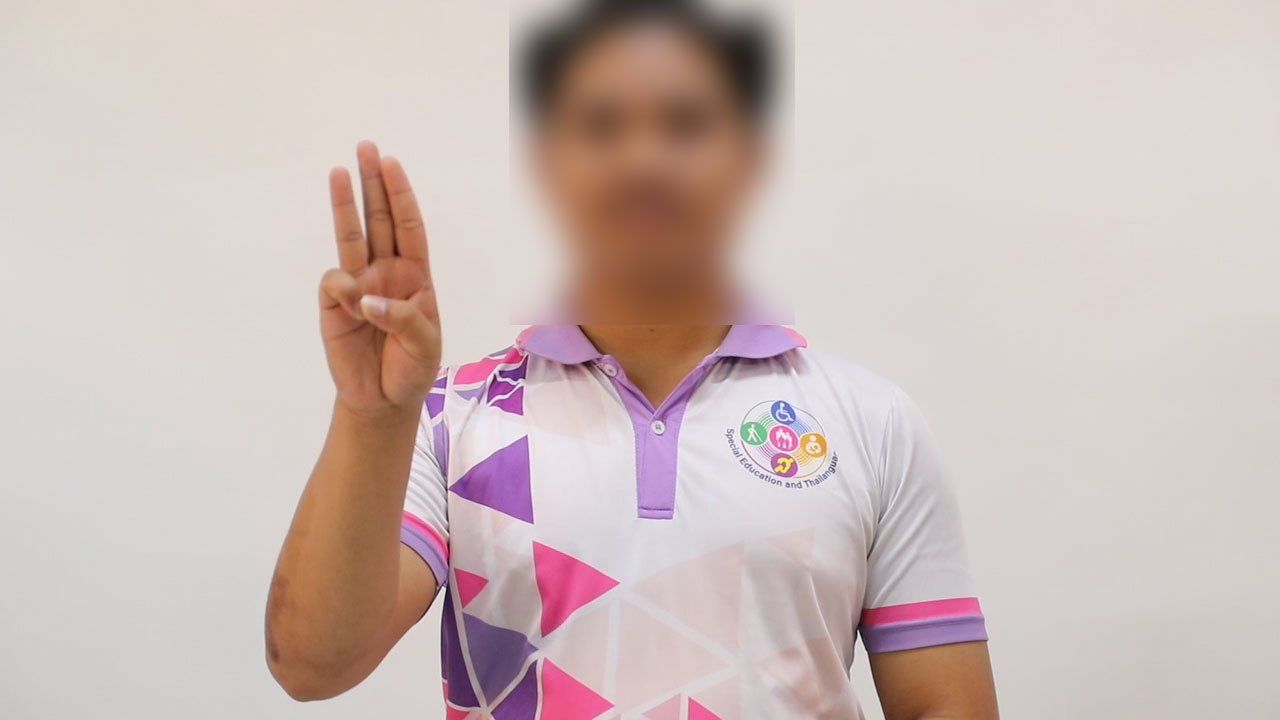wor: (294, 127, 451, 438)
